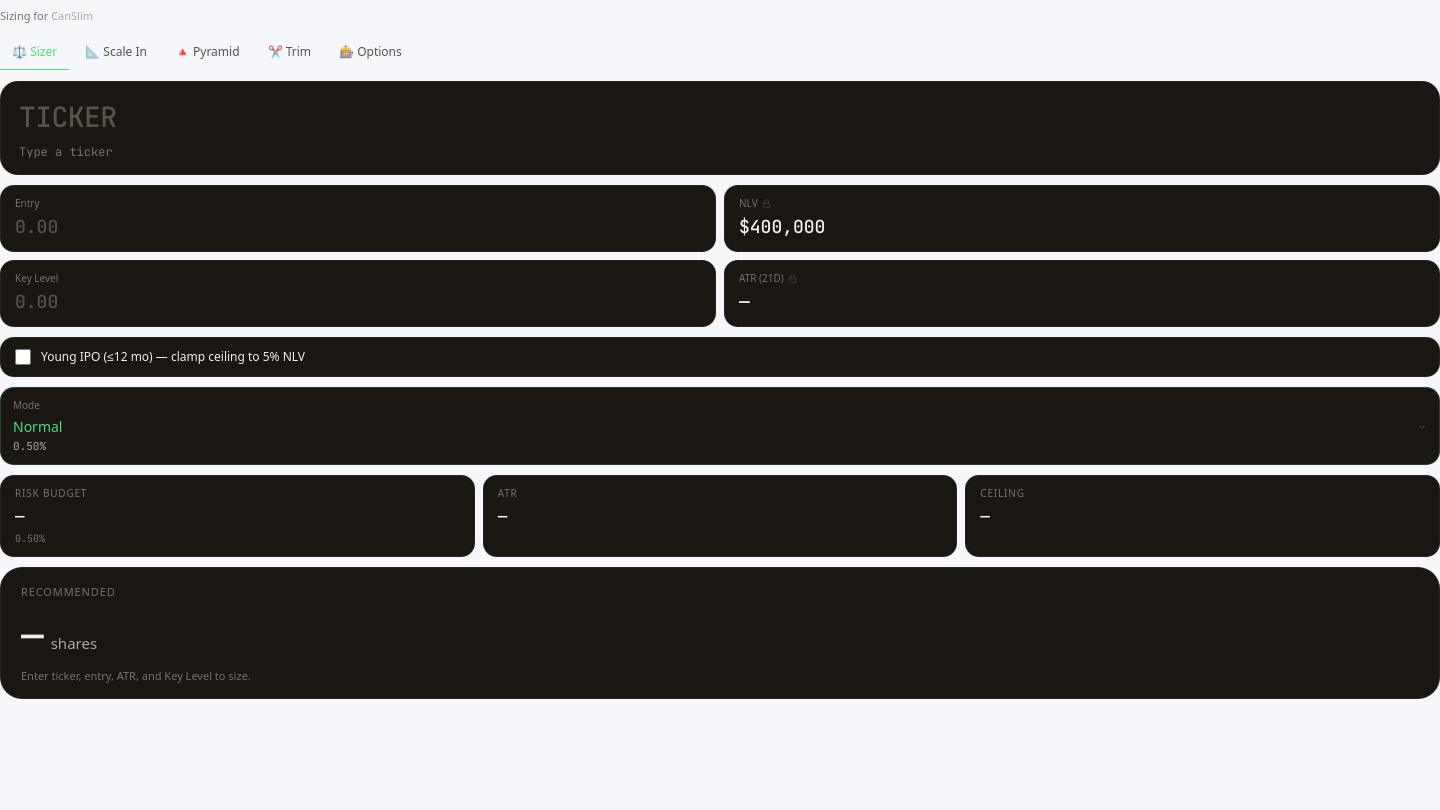
Test: MobilePositionSizer — Volatility composite-stop model › Young-IPO checkbox clamps ceiling to 5% → answer becomes ceiling-bound
expect the text "$400,000" is shown: met, box x1=739 y1=214 x2=825 y2=238
Type "IPO" into the field named "Ticker symbol" at x=720, y=116, box x1=19 y1=96 x2=1421 y2=138
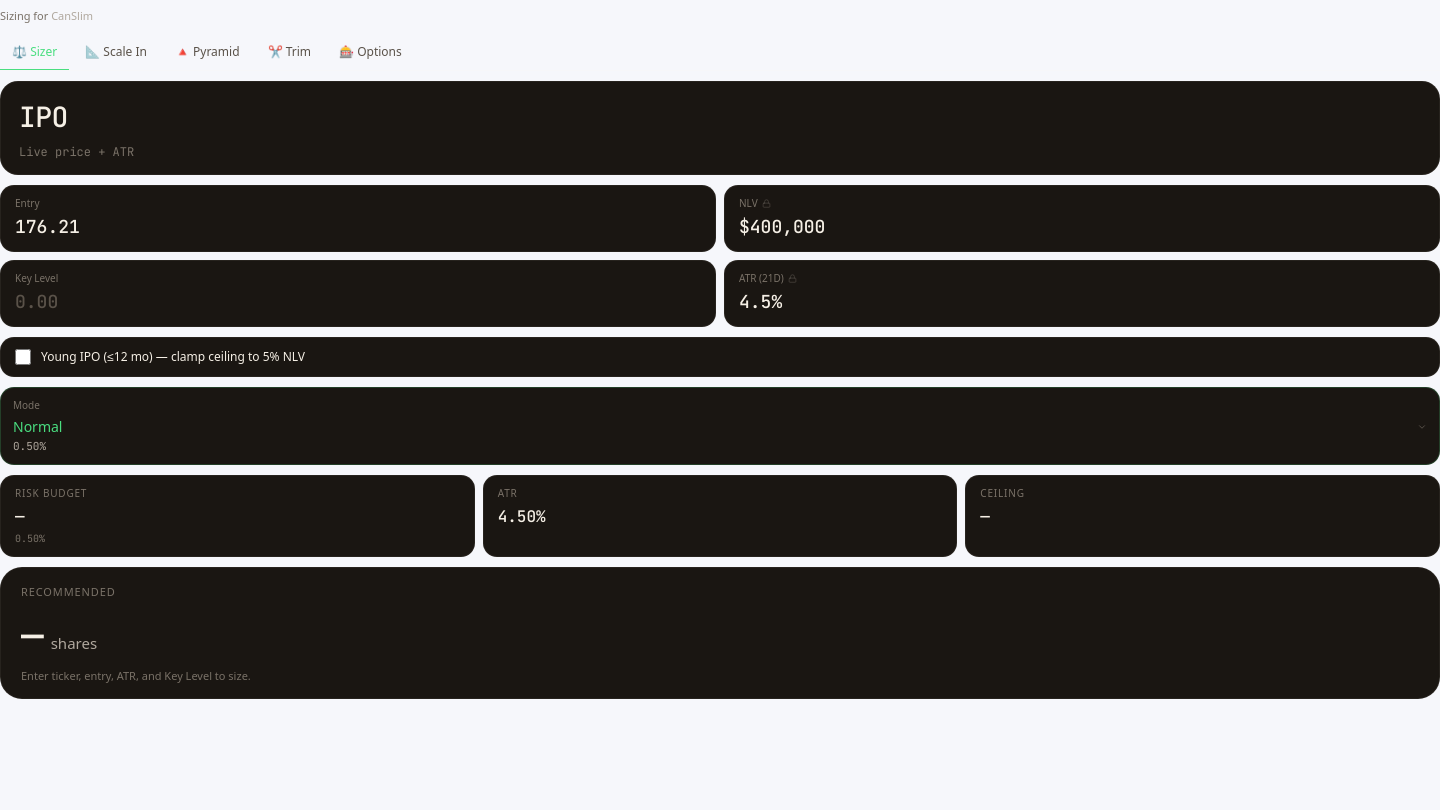
expect the text "4.5%" is shown: met, box x1=739 y1=290 x2=782 y2=312
Type "171.365" into the field labelled "Key Level" at x=358, y=302, box x1=15 y1=288 x2=701 y2=316
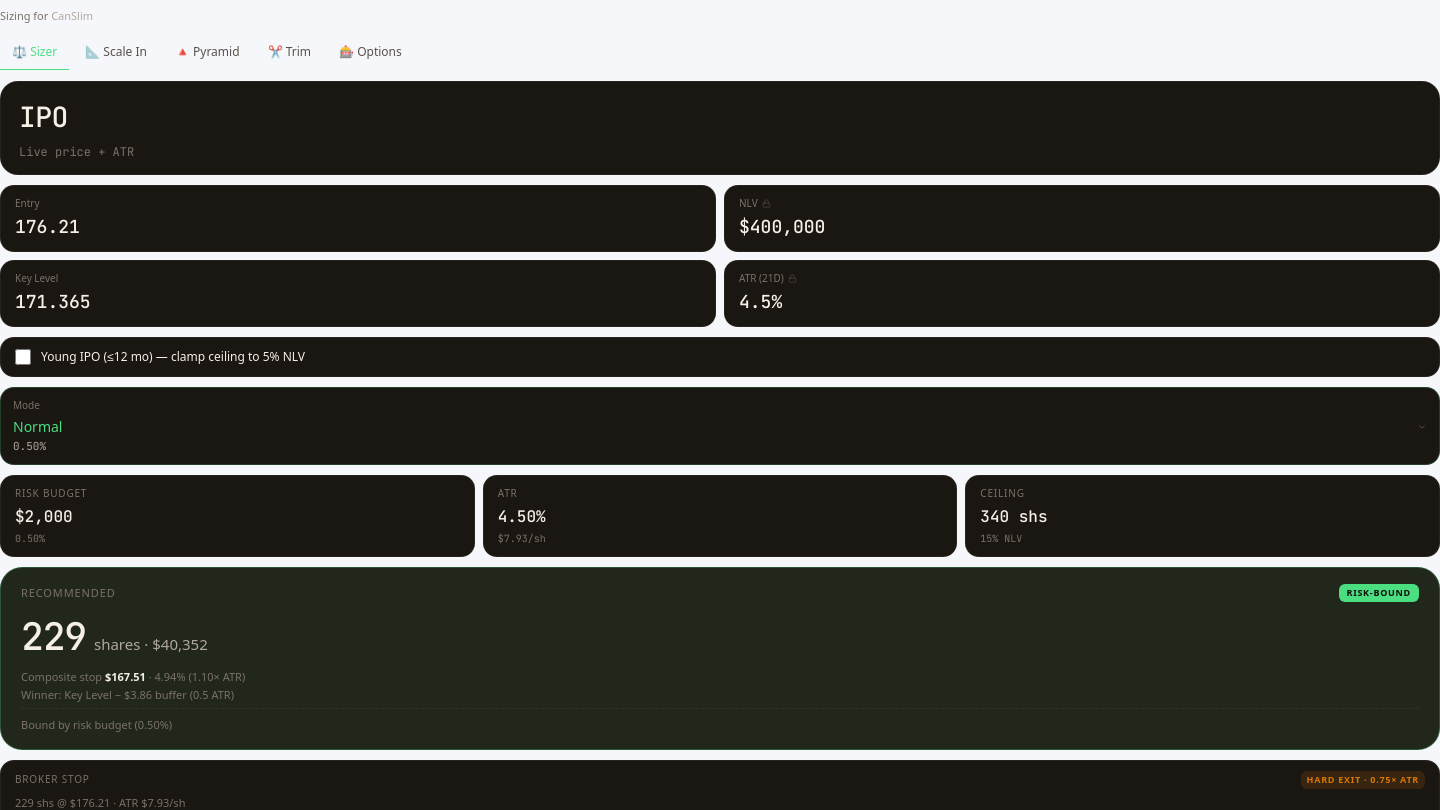
# Toggle Young IPO clamp.
Click the checkbox with test id "young-ipo-checkbox" at x=23, y=356, box x1=15 y1=348 x2=31 y2=364
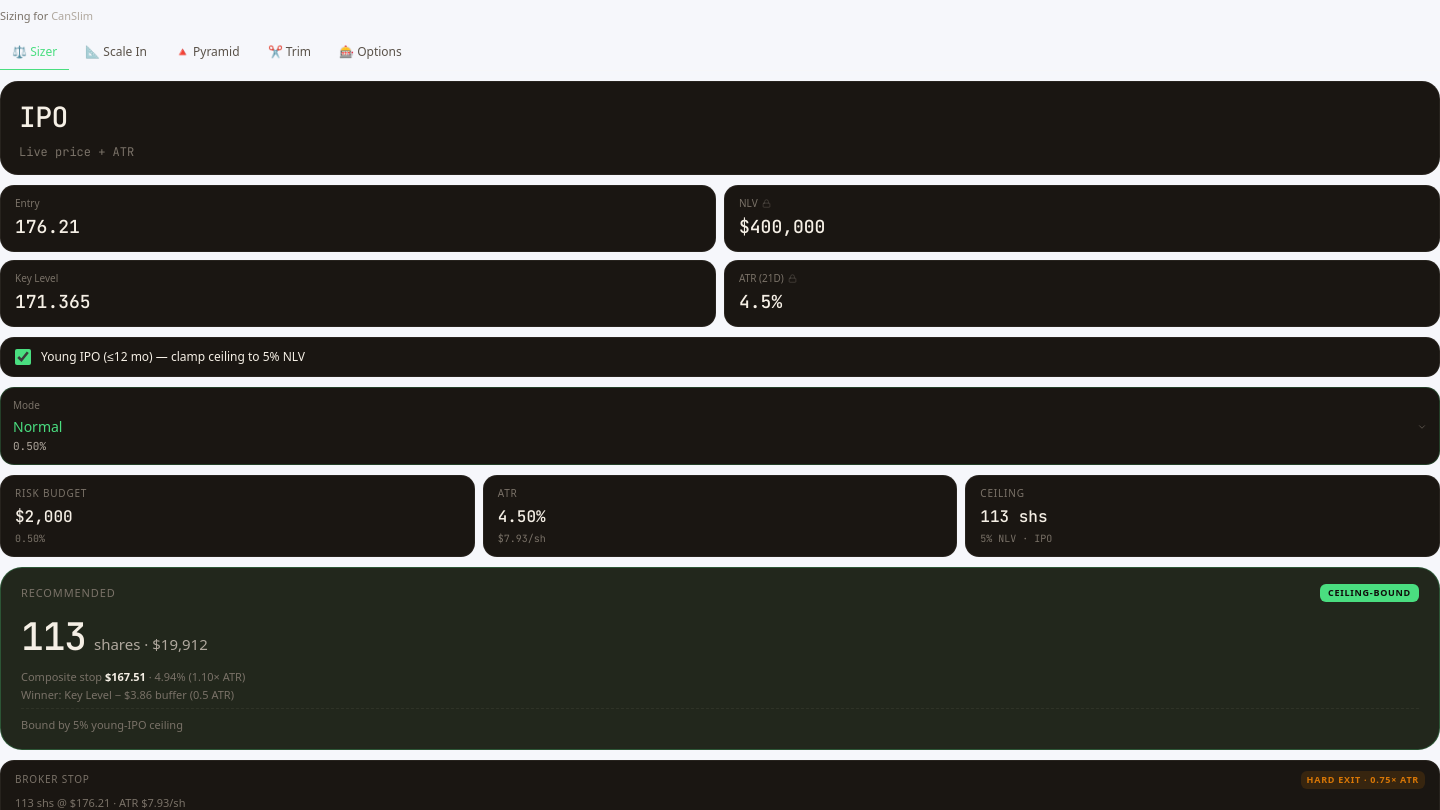
expect the text with test id "audit-shares" reads "113": met, box x1=21 y1=610 x2=86 y2=660
expect the text with test id "bind-badge" reads "Ceiling-bound": met, box x1=1328 y1=586 x2=1411 y2=599
